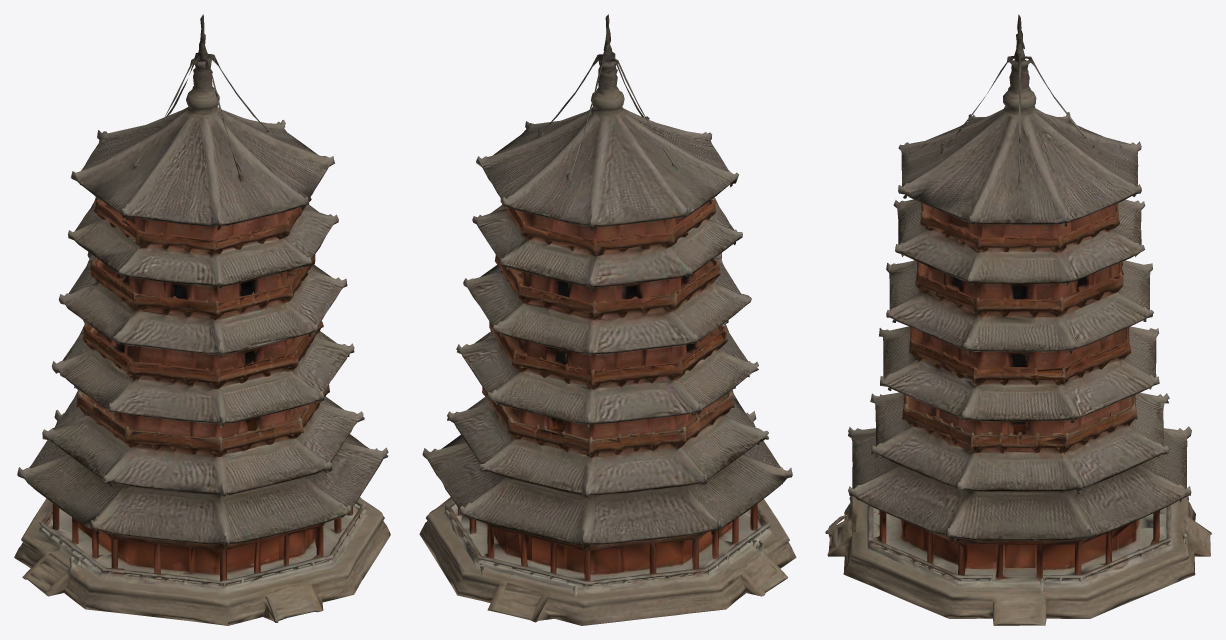
File: building-yingxian.glb
3 views of the same model, side by side, from view 1: azimuth 30°, elevation 25°; view 2: azimuth 150°, elevation 25°; view 3: azimuth 270°, elevation 25° (orthographic).
Visible parts, largest first — view 1: node_b08a187a-26e9-4218-afc2-47615e1a994d; view 2: node_b08a187a-26e9-4218-afc2-47615e1a994d; view 3: node_b08a187a-26e9-4218-afc2-47615e1a994d.
Boxes of the visible parts, left/top/right/bottom form: node_b08a187a-26e9-4218-afc2-47615e1a994d: left=14, top=14, right=390, bottom=625; node_b08a187a-26e9-4218-afc2-47615e1a994d: left=419, top=14, right=796, bottom=625; node_b08a187a-26e9-4218-afc2-47615e1a994d: left=825, top=14, right=1211, bottom=625.
Size of the model in its own units: 0.659 by 1 by 0.66.
Materials: 1 (1 with a texture image).
